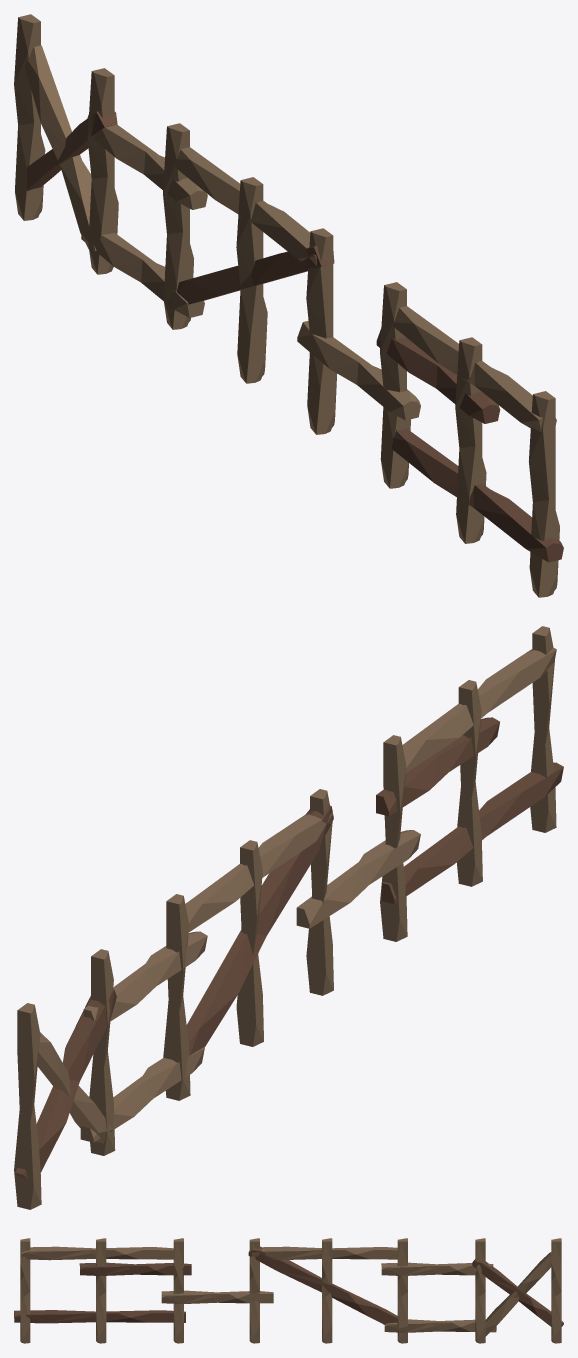
File: Fence.fbx
3 renders of one model, top to bottom at view 1: azimuth 30°, elevation 25°; view 2: azimuth 150°, elevation 25°; view 3: azimuth 270°, elevation 25°, orthographic. The views are drawn at different scales.
Parts seen in each view (by area): view 1: Plank3.015; view 2: Plank3.015; view 3: Plank3.015.
Part boxes in pixels (x1=…): Plank3.015: x1=14, y1=14, x2=563, y2=597; Plank3.015: x1=14, y1=626, x2=563, y2=1209; Plank3.015: x1=14, y1=1238, x2=563, y2=1343.
Bounding box in the file's own units: 22.06 × 195 × 956.
